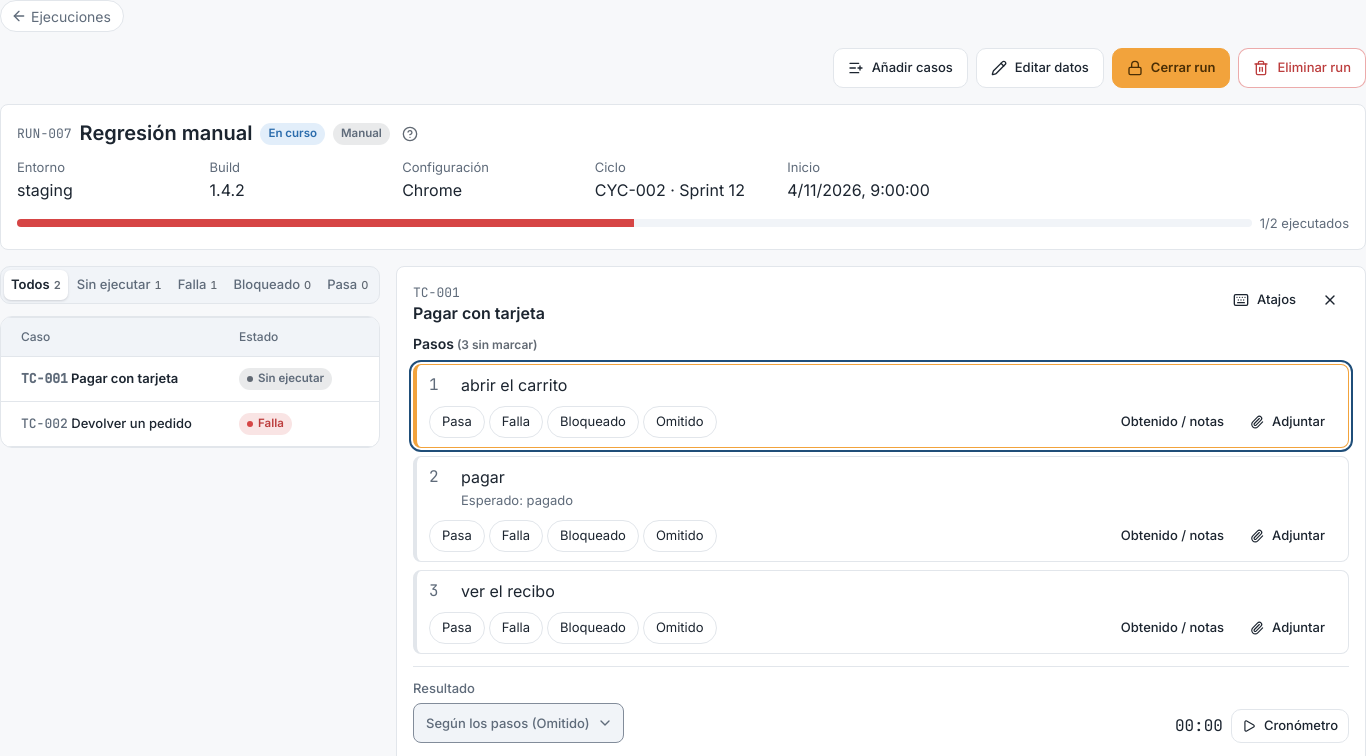
Scenario: run screen › reloads when another window already recorded the attempt
Type keys "p"
(page scrolled)
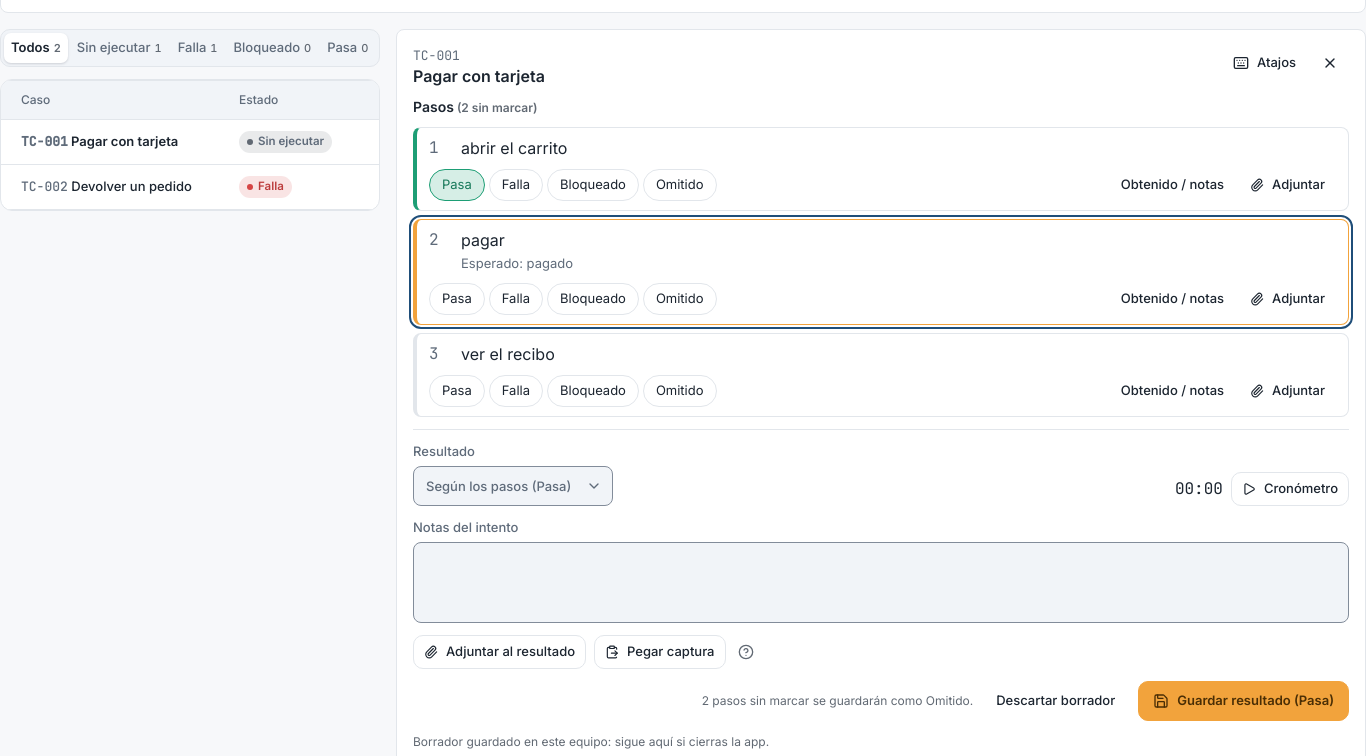
Click the button with test id "exec-save".
click(1244, 700)  # box [1138, 680, 1349, 720]
(page scrolled)
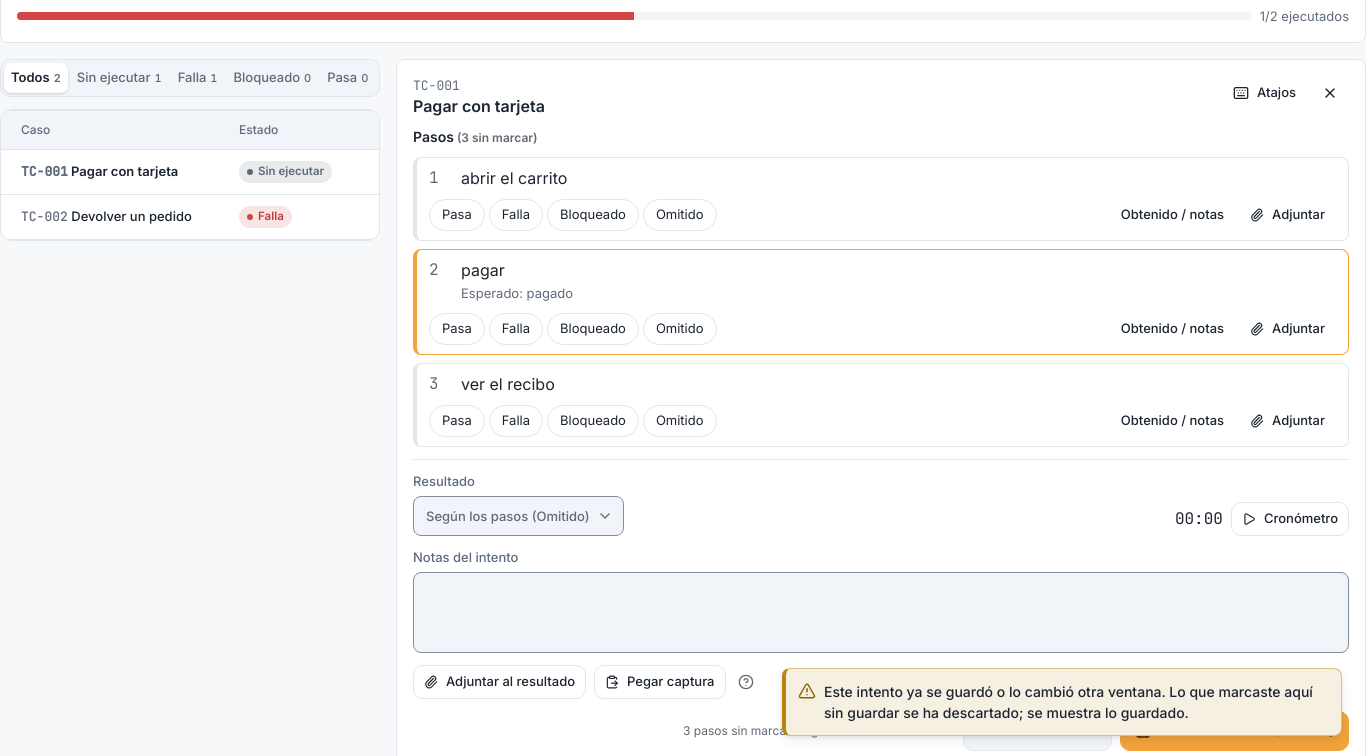
Result: the text "sin guardar se ha descartado" is shown at [824, 683, 1313, 721]
